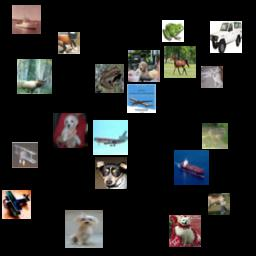airplane: (93, 120, 128, 155), (127, 84, 156, 113), (2, 190, 31, 219), (12, 142, 38, 168)
automobile: (210, 21, 242, 53)
cat: (201, 66, 223, 88), (58, 32, 80, 54)
deer: (17, 59, 52, 94), (202, 123, 228, 149)
dog: (65, 210, 103, 248), (53, 113, 88, 148), (95, 157, 127, 189), (128, 50, 160, 82), (169, 215, 201, 247)
frog: (95, 64, 124, 93), (162, 20, 184, 42)
ship: (174, 150, 209, 185), (12, 5, 41, 34)
